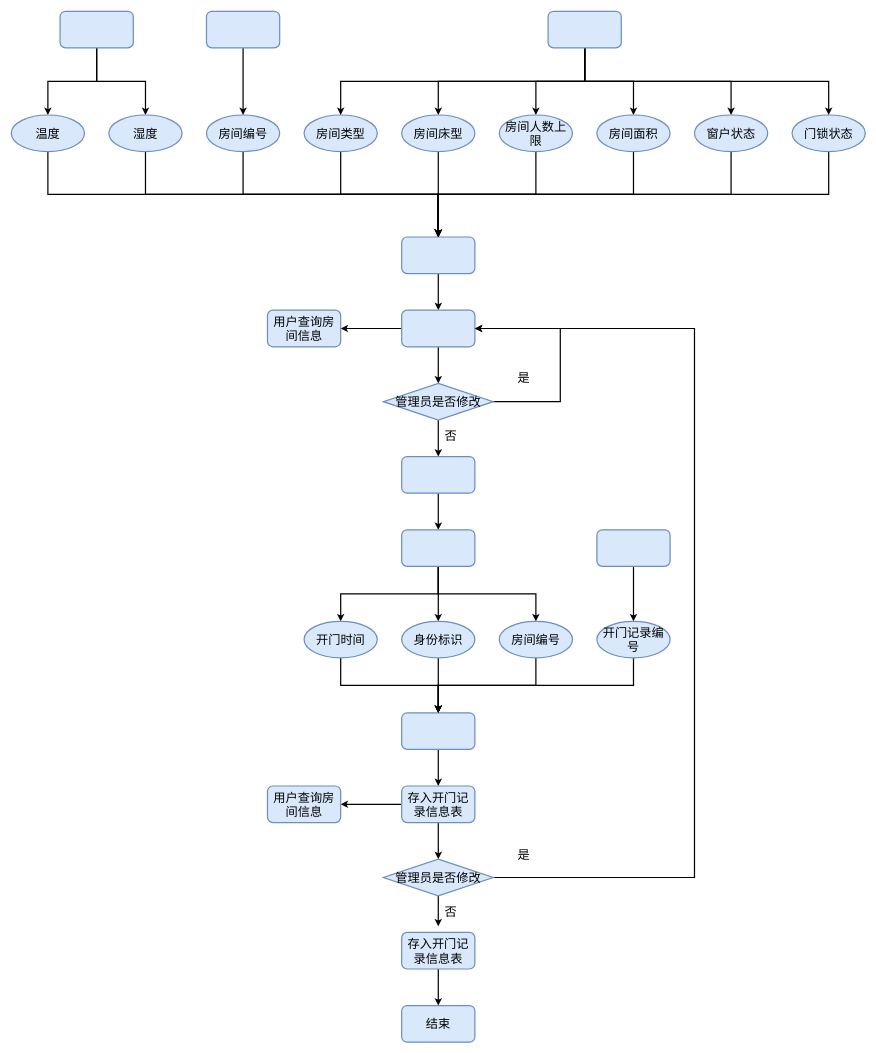
The diagram is 876 pixels wide and 1053 high, and some of its shapes have lost their labels. The box of each missing label's shape, as (x1, y1, x2, y2) in pixels:
存入房间信息表: (401, 309, 475, 347)
提交开门记录信息: (401, 712, 475, 750)
提交房间信息: (401, 236, 475, 274)
用户开门: (401, 456, 475, 493)
用户生成部分开门记录: (401, 529, 475, 567)
硬件记录部分房间信息: (59, 10, 134, 48)
管理员填写部分硬件信息: (547, 10, 622, 48)
系统生成部分开门记录: (596, 529, 670, 567)
系统生成部分硬件信息: (206, 10, 280, 48)
